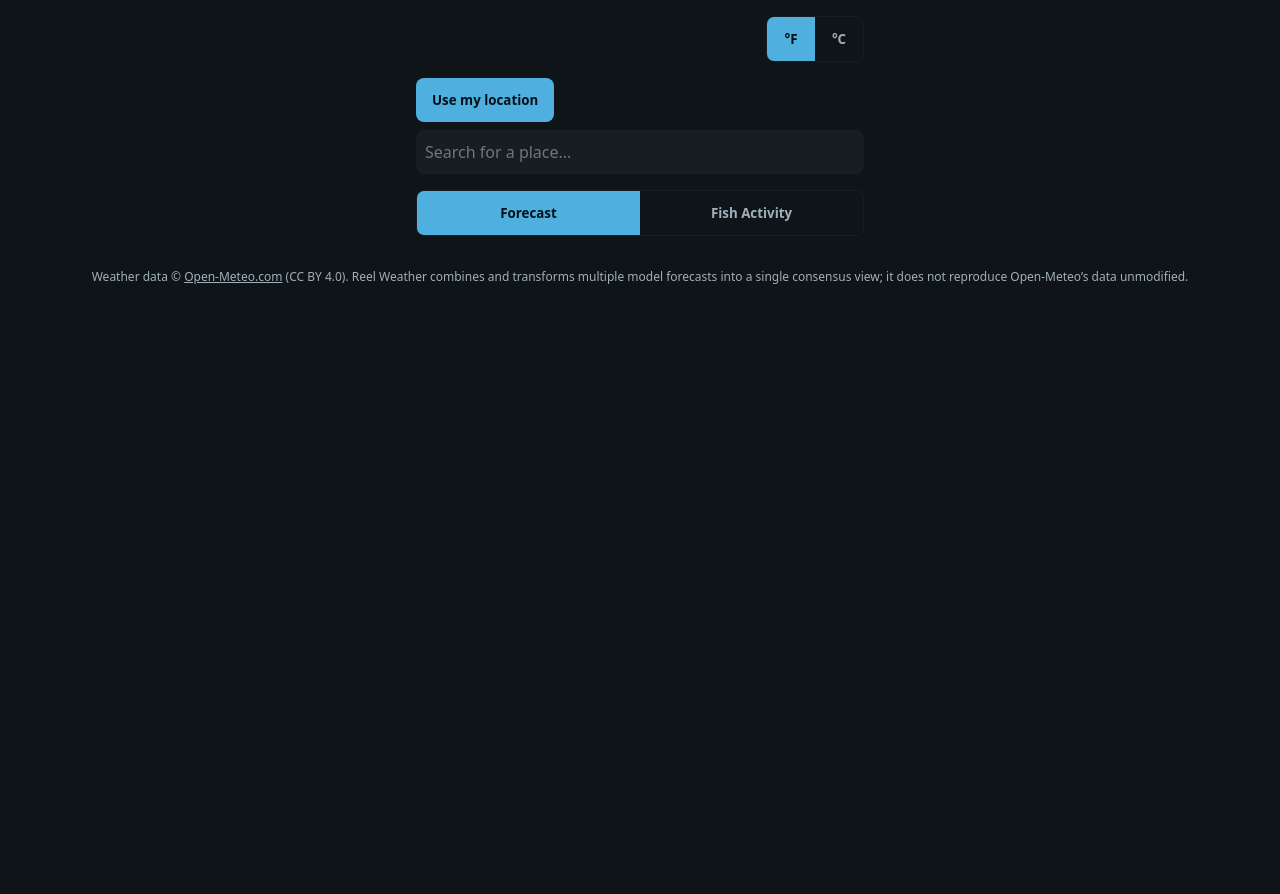
Test: App › preserves the selected location/forecast when switching to Fish Activity and back (design brief section 3)
Type "Boulder" into the field with placeholder "Search for a place..." at (640, 152), box [416, 130, 864, 174]
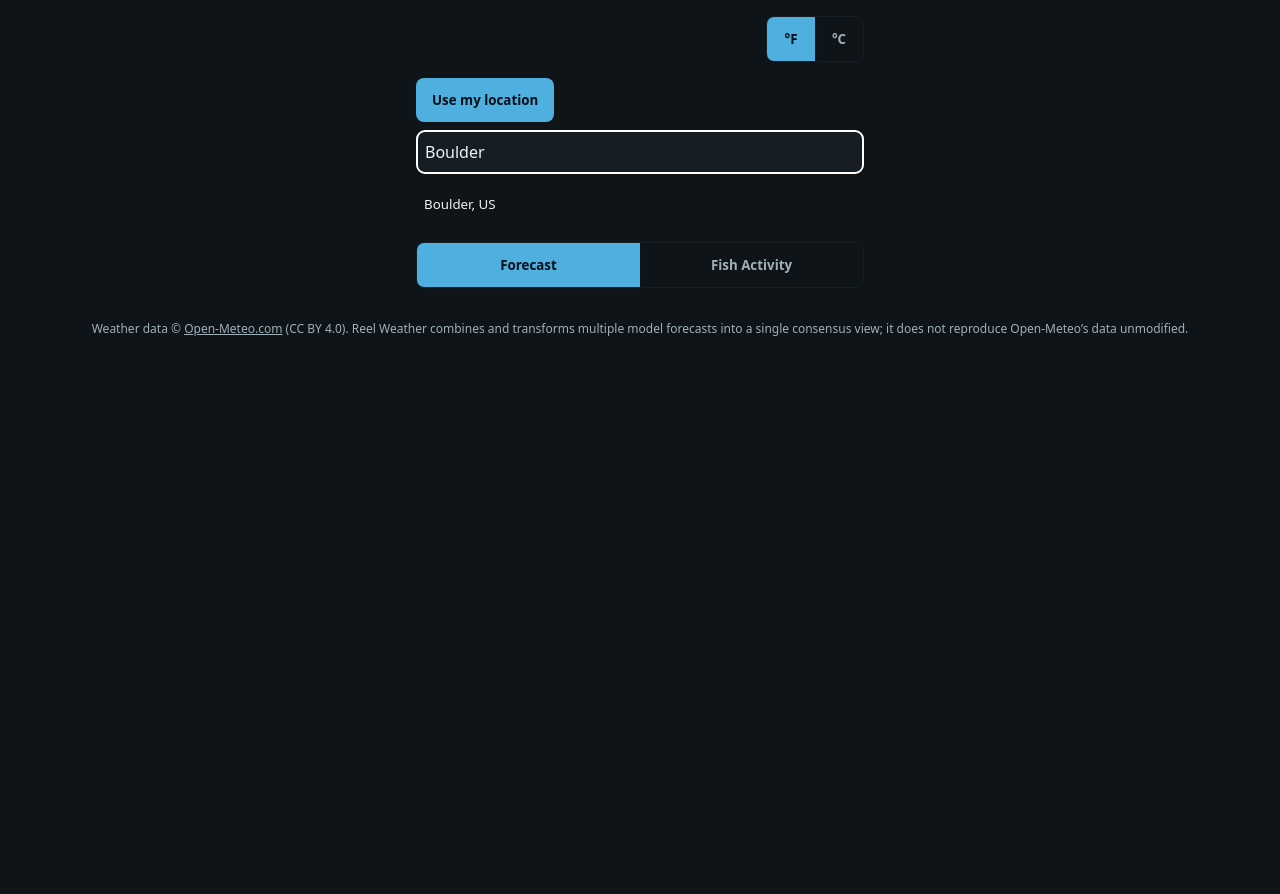
Click the button "Boulder, US" at (448, 204), box [416, 182, 864, 226]
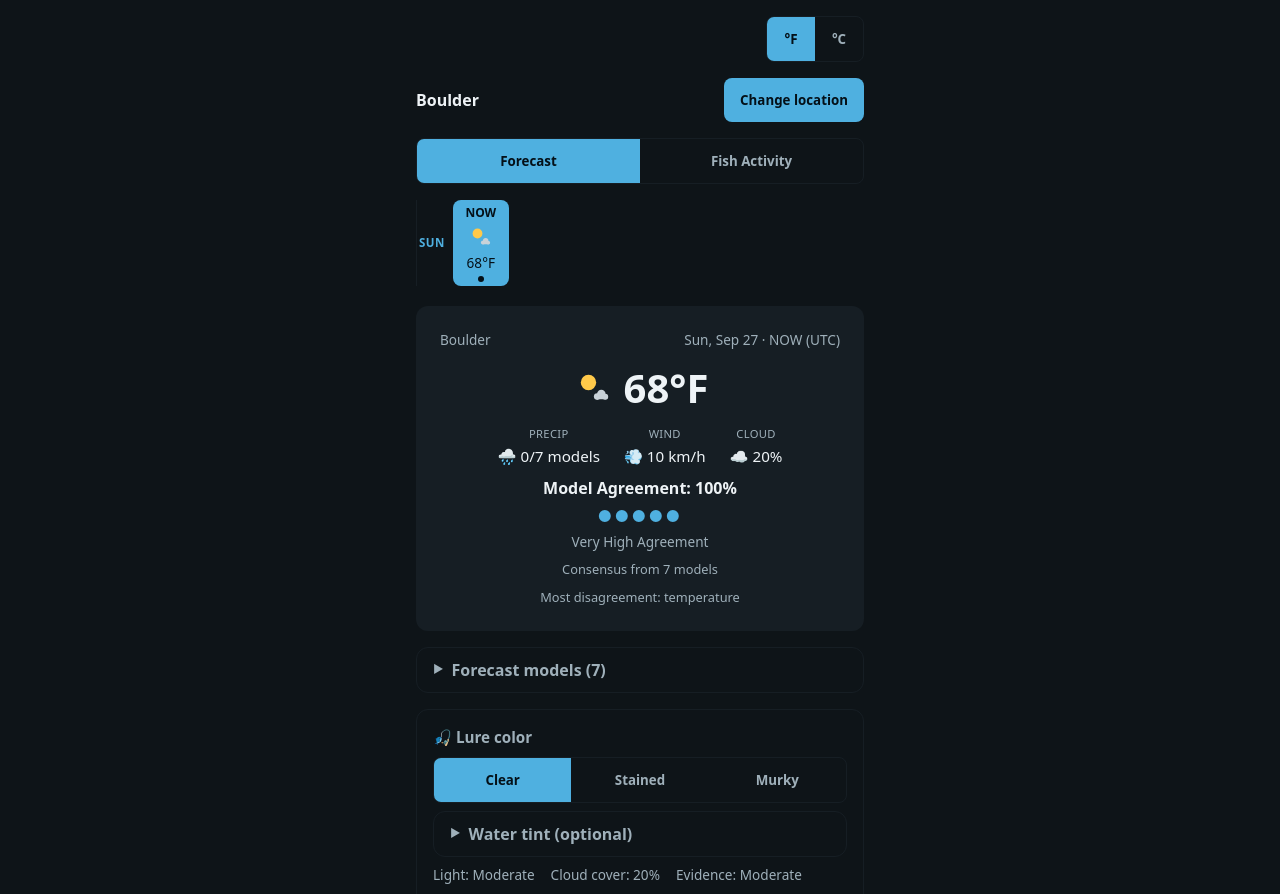
Check: the text "Consensus from" is shown, box [562, 560, 663, 578]
Click the radio button labelled "Fish Activity" at (752, 161), box [640, 139, 863, 183]
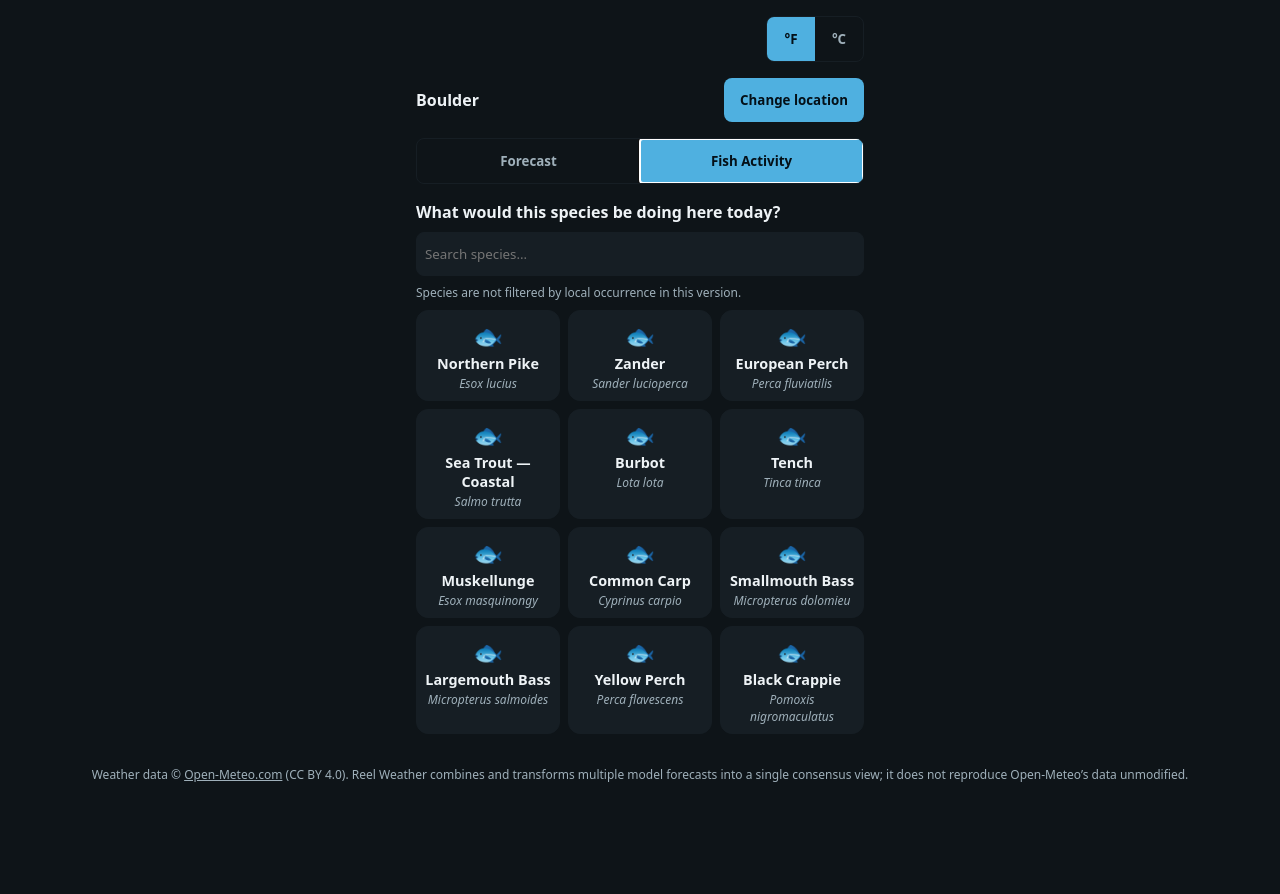
Check: the text "What would this species be doing here today?" is shown, box [416, 201, 780, 223]
Check: the text "Consensus from" is gone
Click the radio button labelled "Forecast" at (528, 161), box [417, 139, 640, 183]
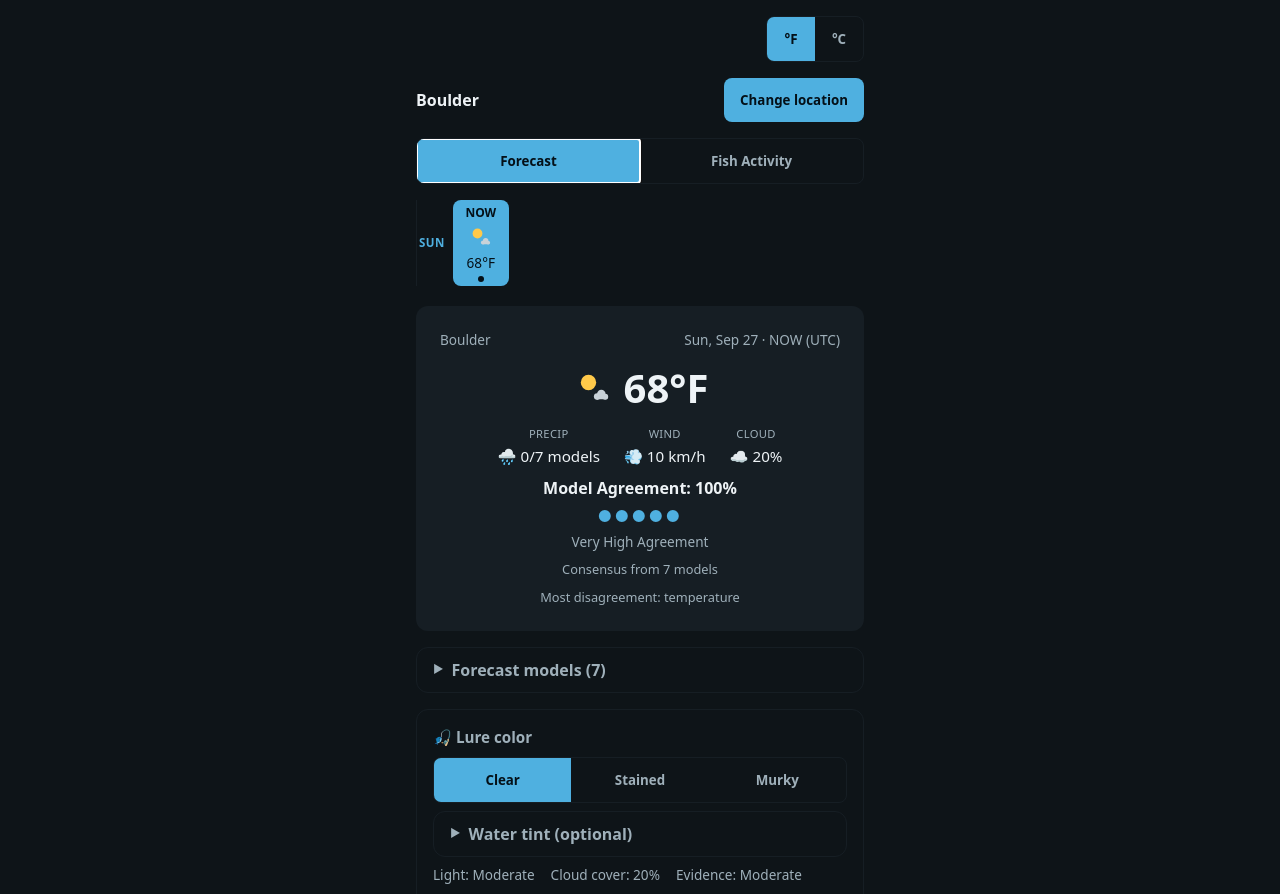
Check: the 1st text "Boulder" is shown, box [416, 88, 479, 112]
Check: the text "Consensus from" is shown, box [562, 560, 663, 578]
